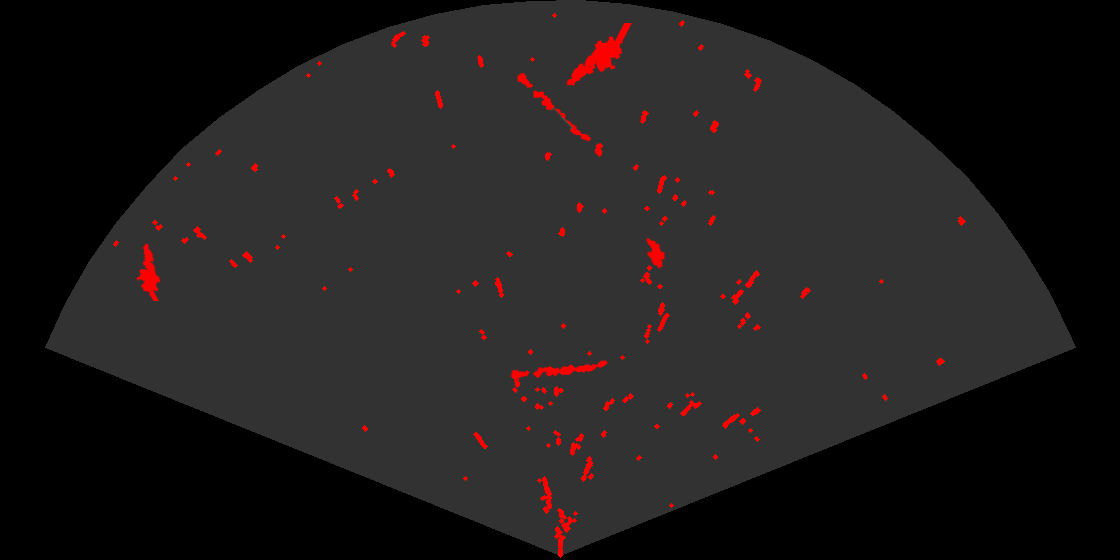AUV: (644, 236, 667, 270)
chain: (516, 71, 592, 143), (509, 359, 609, 382)
frogman: (565, 23, 633, 87), (135, 242, 162, 301)
